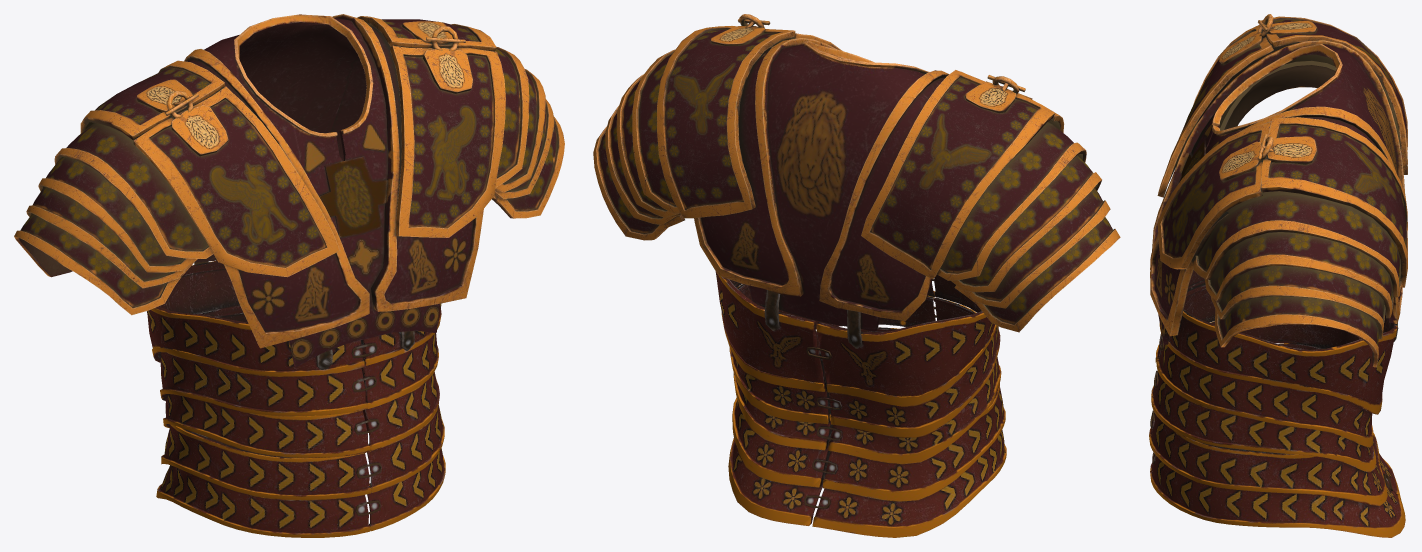
3 views of the same model, side by side, from view 1: azimuth 30°, elevation 25°; view 2: azimuth 150°, elevation 25°; view 3: azimuth 270°, elevation 25° (orthographic). The views are drawn at different scales.
Parts seen in each view (by area): view 1: Shoulder, Torso, Chest; view 2: Shoulder, Torso, Chest; view 3: Shoulder, Torso, Chest.
Boxes of the visible parts, x1=… form: Shoulder: x1=14, y1=16, x2=564, y2=315; Torso: x1=147, y1=260, x2=445, y2=537; Chest: x1=184, y1=14, x2=483, y2=367; Shoulder: x1=593, y1=14, x2=1120, y2=332; Torso: x1=715, y1=271, x2=1006, y2=537; Chest: x1=694, y1=38, x2=949, y2=331; Shoulder: x1=1157, y1=14, x2=1407, y2=367; Torso: x1=1149, y1=270, x2=1405, y2=537; Chest: x1=1150, y1=40, x2=1405, y2=344.
Size of the model in its own units: 78.2 by 66.71 by 35.56.
3 materials, 3 textured.
